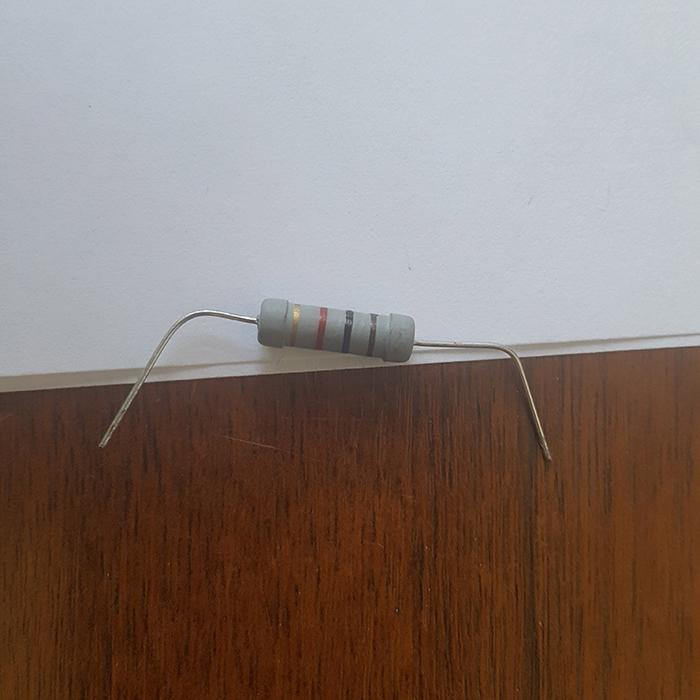resistor: (254, 297, 418, 363)
